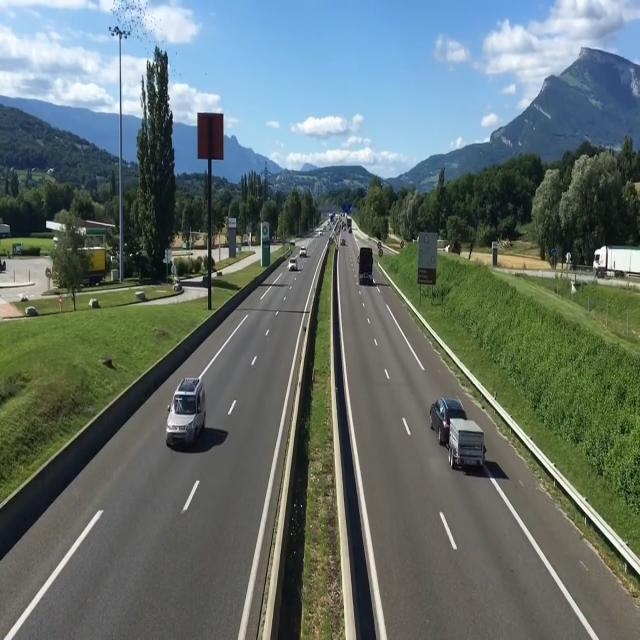car: (428, 383, 489, 479), (168, 366, 213, 450), (288, 252, 299, 275), (298, 242, 308, 260)
truck: (590, 244, 640, 282), (356, 245, 377, 291)
